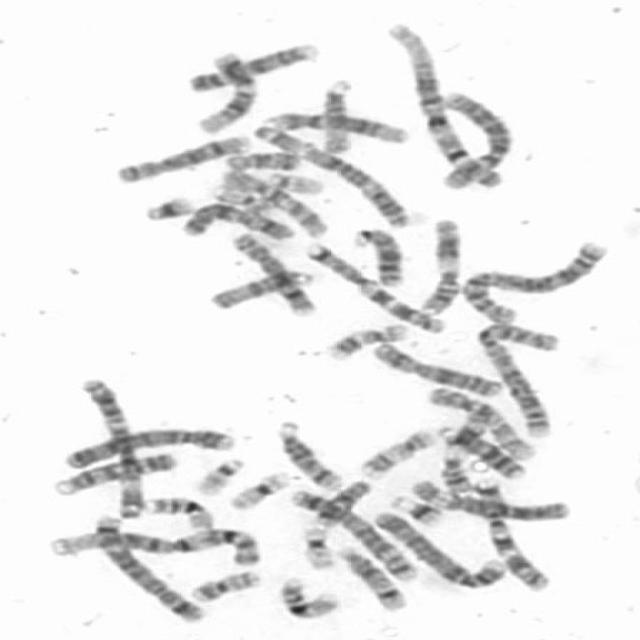A1: (382, 19, 508, 191), (40, 522, 264, 567)
A2: (456, 236, 613, 326), (470, 320, 561, 438)
A3: (249, 121, 417, 229), (74, 373, 150, 520)
B4: (366, 504, 508, 590), (57, 422, 239, 469)
B5: (282, 483, 422, 584), (88, 510, 208, 624)
C10: (423, 381, 537, 461), (214, 164, 333, 238)
C11: (414, 213, 466, 317), (434, 409, 493, 496)
C12: (260, 108, 414, 145), (192, 49, 258, 134)
C6: (407, 475, 577, 524), (434, 88, 514, 190)
C7: (297, 238, 447, 334), (470, 474, 553, 592)
C8: (226, 228, 317, 317), (108, 132, 252, 185)
C9: (183, 38, 320, 94), (47, 448, 180, 497)
D13: (432, 420, 528, 480), (347, 225, 406, 288)
D14: (270, 416, 346, 492), (331, 540, 410, 612)
D15: (204, 267, 314, 312), (317, 75, 356, 157)
E16: (276, 573, 343, 620), (139, 493, 214, 531)
E17: (353, 423, 440, 479), (320, 318, 411, 362)
E18: (311, 475, 376, 528), (218, 146, 303, 173)
F19: (223, 466, 293, 512), (294, 520, 337, 570)
F20: (184, 564, 264, 604), (208, 182, 282, 221)
G21: (384, 490, 447, 527), (138, 191, 198, 222)
G22: (189, 451, 247, 497), (260, 166, 327, 196)
X: (366, 338, 504, 397), (174, 198, 297, 242)
